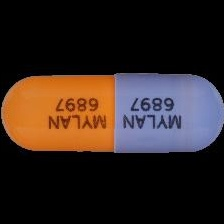0378-6897: (0, 0, 224, 224)
